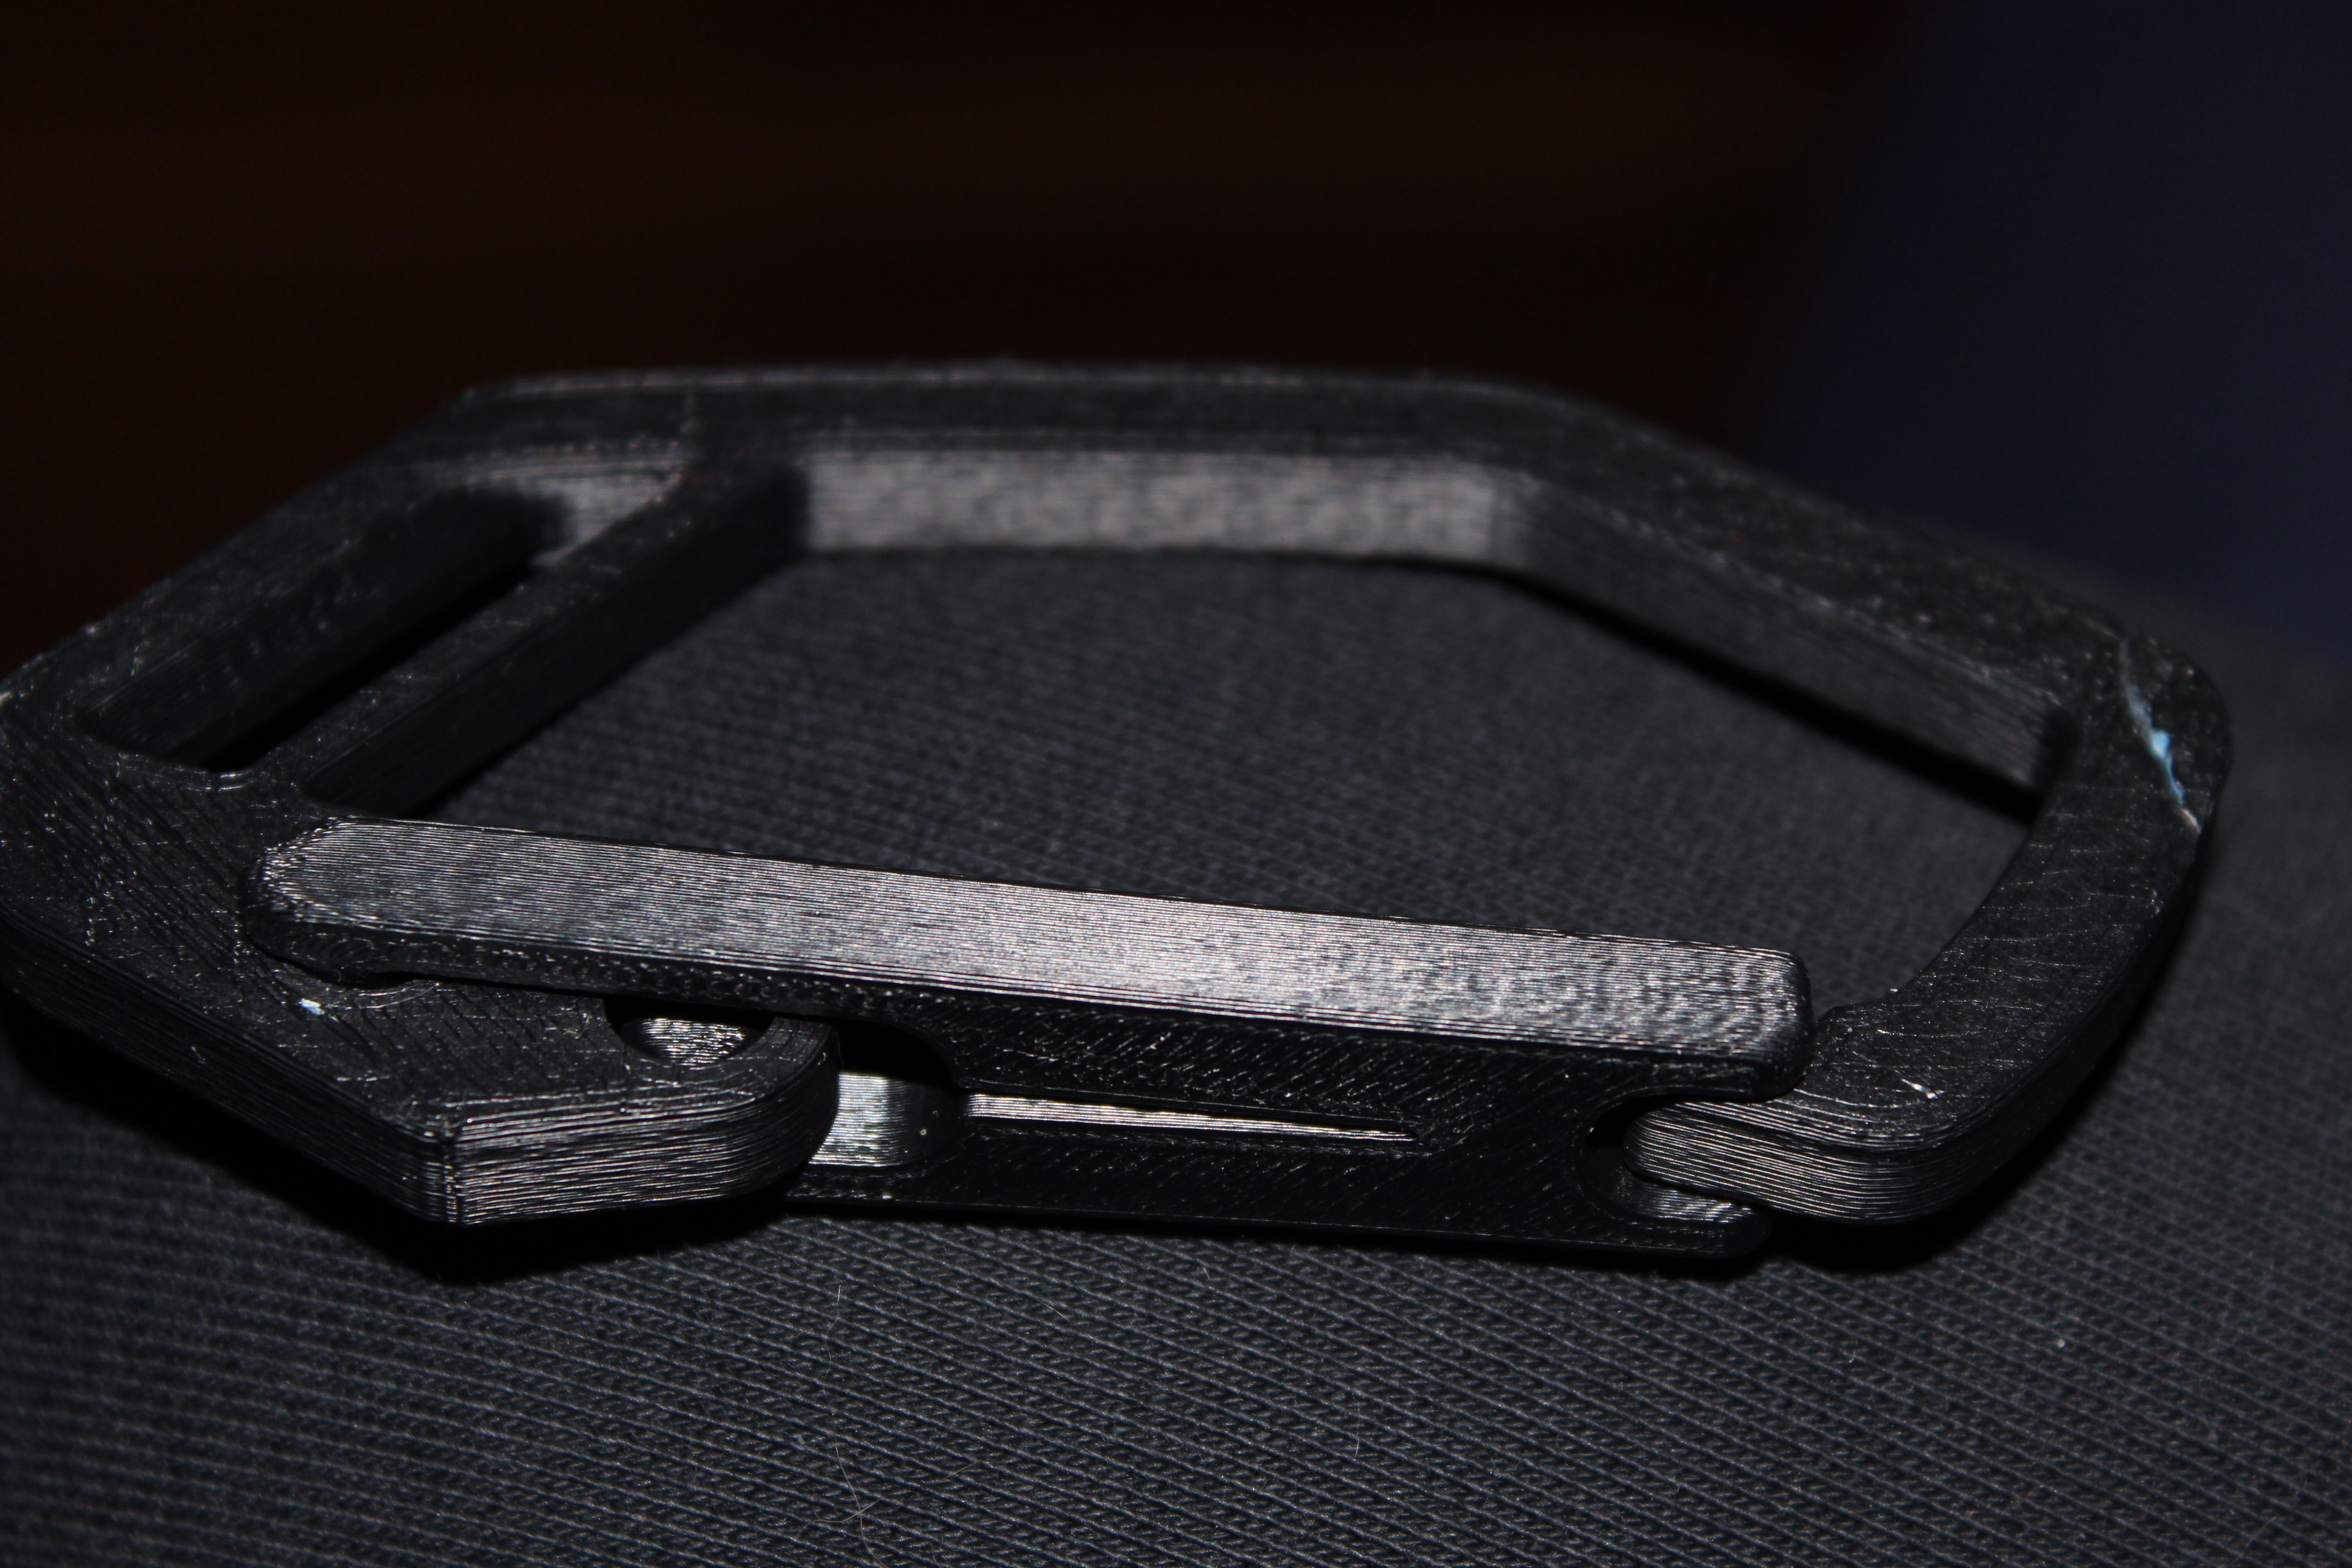carabiner: (7, 340, 2284, 1347)
